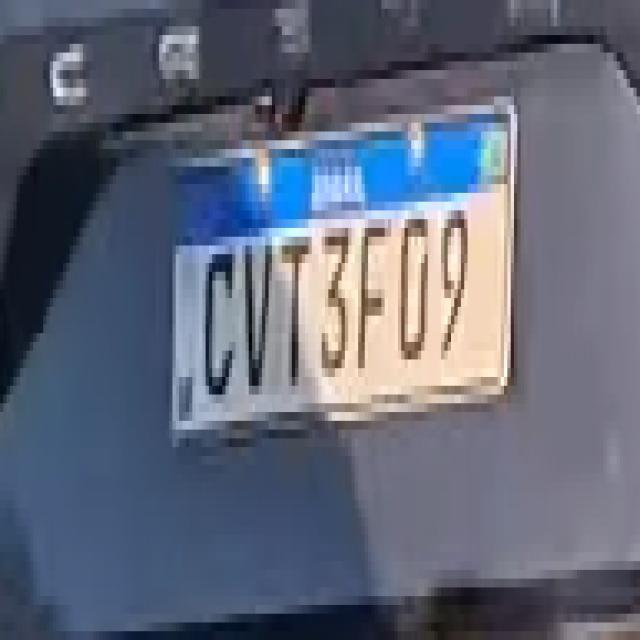Placa_mercosul_carro: (170, 88, 519, 446)
